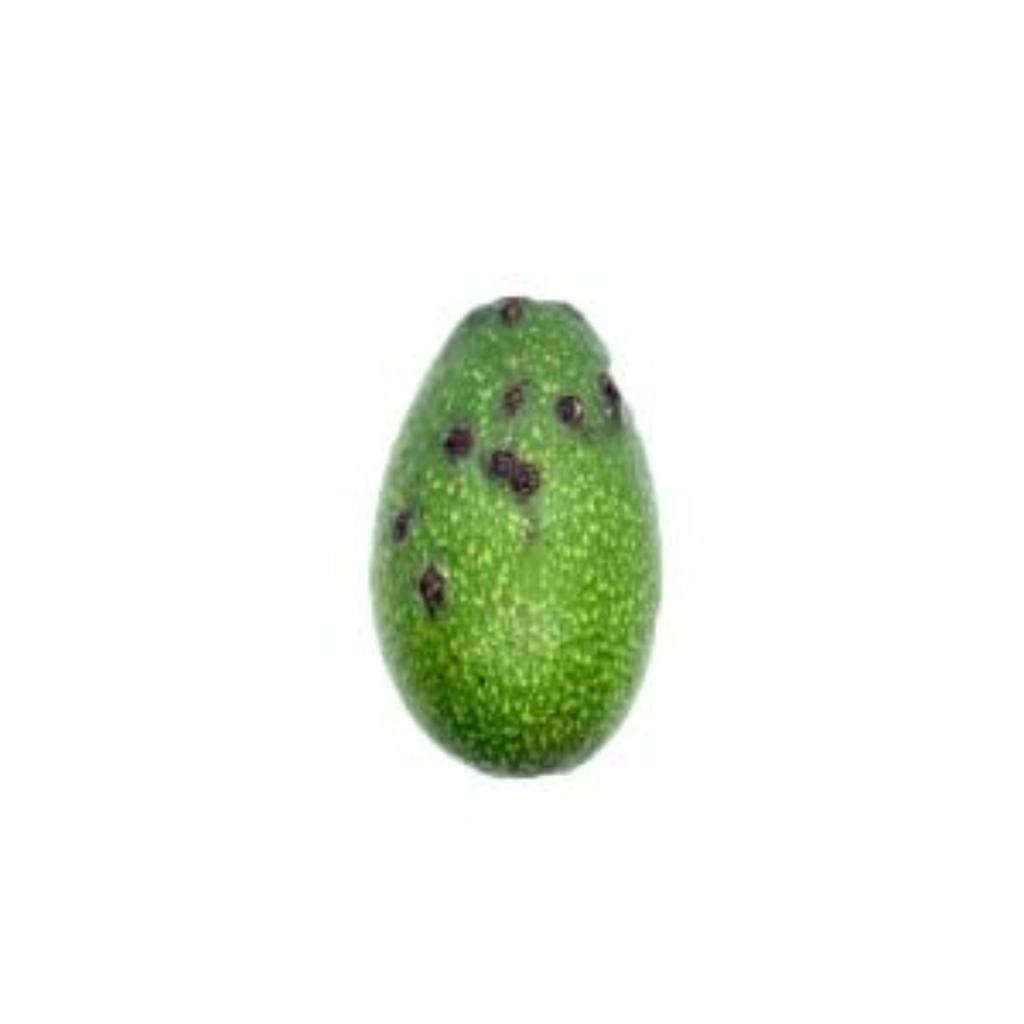cercospora_spot: (357, 282, 671, 794)
